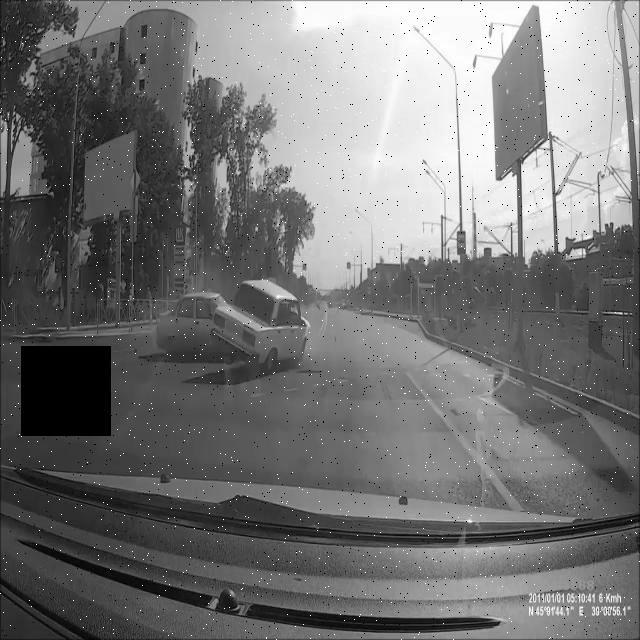severe: (153, 272, 311, 370)
